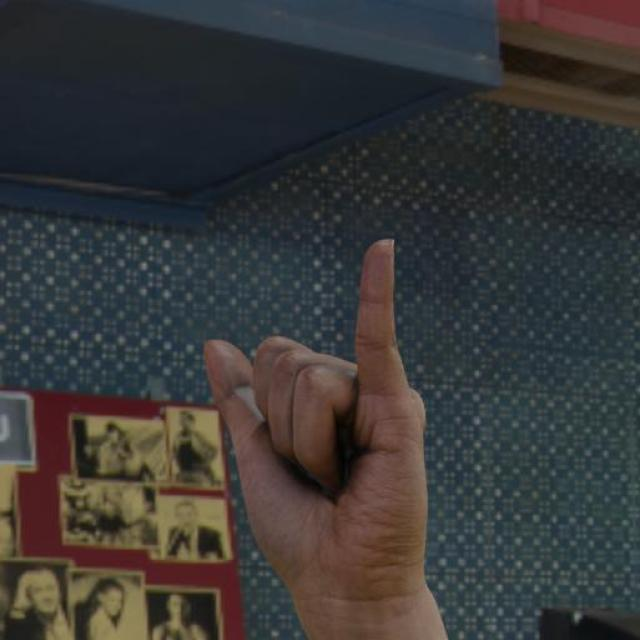Y: (200, 236, 431, 580)
